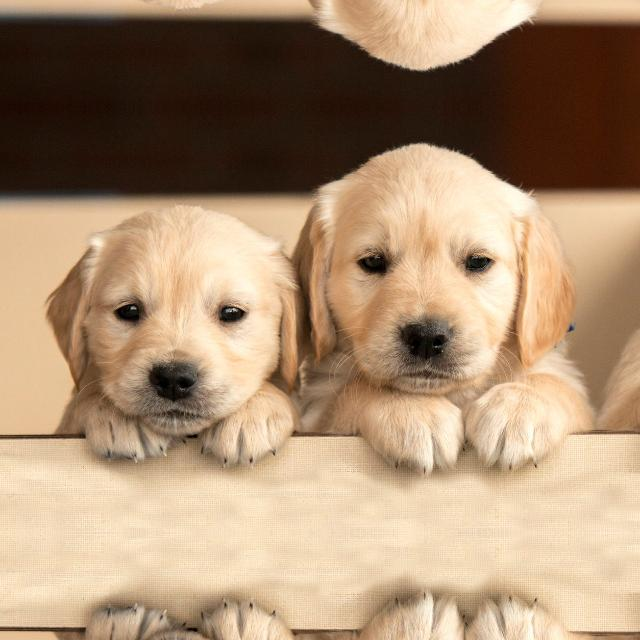dog: (306, 154, 592, 496), (59, 165, 308, 508), (58, 557, 307, 640), (306, 570, 591, 640), (306, 0, 591, 57), (58, 0, 307, 47)
